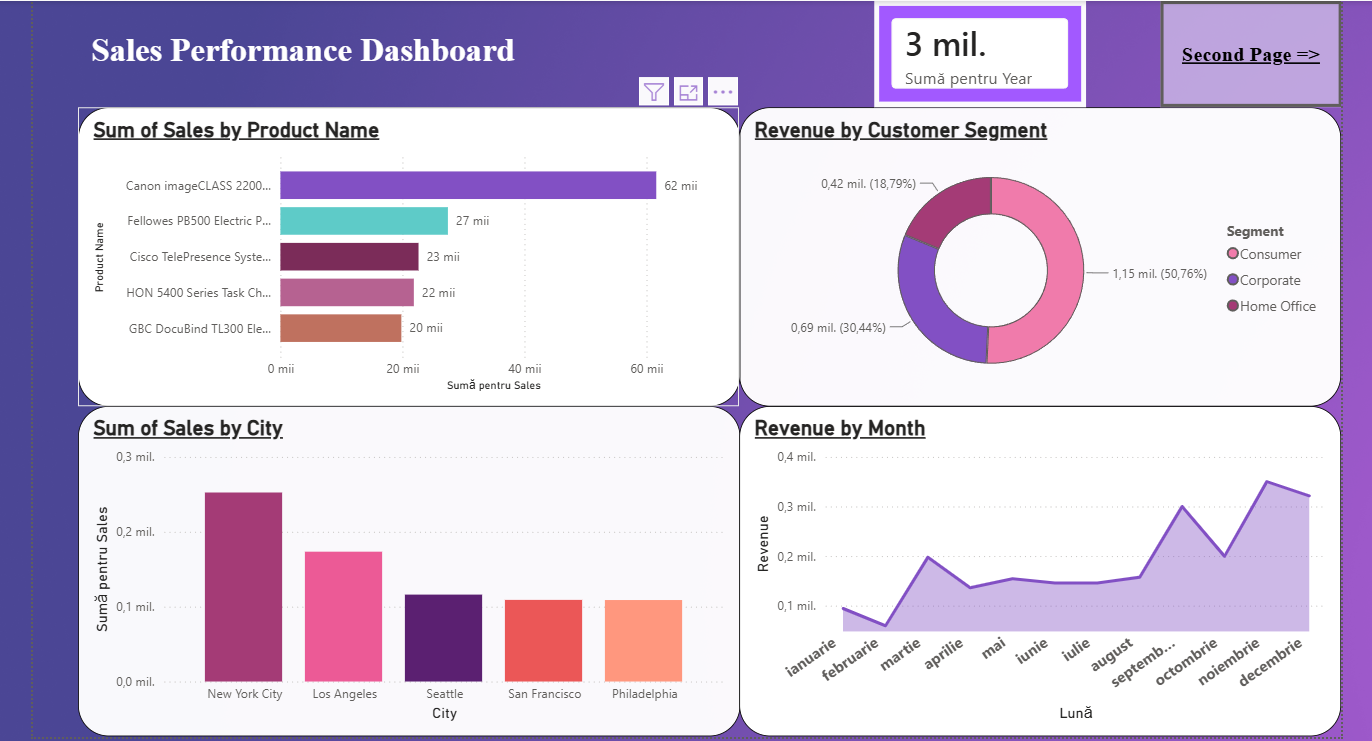

Layout of this report page (visuals, bound fields, positions):
{"tool":"powerbi","page":{"name":"Pagina 1","canvas":[1280,720],"ordinal":0},"visuals":[{"type":"columnChart","title":"Sum of Sales by City","fields":{"Category":["Fact_Sales.City"],"Y":["Sum(Fact_Sales.Sales)"]},"box":[43.6,396.8,647.6,323.1],"z":1000},{"type":"stackedAreaChart","title":"Revenue by Month","fields":{"Y":["Fact_Sales.Revenue"],"Category":["Fact_Sales.Order Date.Variație.Ierarhie de date.Lună"]},"box":[691.3,396.8,589,323.1],"z":2000},{"type":"donutChart","title":"Revenue by Customer Segment","fields":{"Category":["Fact_Sales.Segment"],"Y":["Fact_Sales.Revenue"]},"box":[691.3,103.6,589,293.1],"z":3000},{"type":"cardVisual","fields":{"Data":["Sum(Dim_Date.Year)"]},"box":[823.5,0,207.2,103.6],"z":4000},{"type":"actionButton","box":[1103,0,177.2,103.6],"z":5000},{"type":"clusteredBarChart","title":"Sum of Sales by Product Name","fields":{"Category":["Fact_Sales.Product Name"],"Y":["Sum(Fact_Sales.Sales)"]},"box":[43.6,103.6,647.6,293.1],"z":6000},{"type":"textbox","box":[44,24.5,549.1,55],"z":6001}]}

Visuals, with their boxes in screenshot pixels (x1, y1, x2, y2):
"Sum of Sales by City" columnChart: [x1=80, y1=402, x2=736, y2=729]
"Revenue by Month" stackedAreaChart: [x1=736, y1=402, x2=1333, y2=729]
"Revenue by Customer Segment" donutChart: [x1=736, y1=105, x2=1333, y2=402]
cardVisual - Sum(Dim_Date.Year): [x1=870, y1=0, x2=1080, y2=105]
actionButton: [x1=1153, y1=0, x2=1333, y2=105]
"Sum of Sales by Product Name" clusteredBarChart: [x1=80, y1=105, x2=736, y2=402]
textbox: [x1=80, y1=25, x2=637, y2=81]
